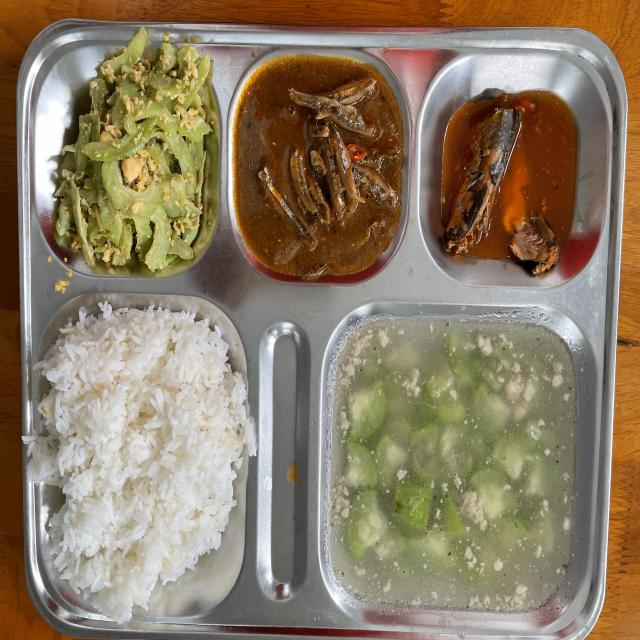ca_kho: (251, 99, 383, 248), (455, 113, 562, 261)
com_trang: (54, 327, 235, 592)
